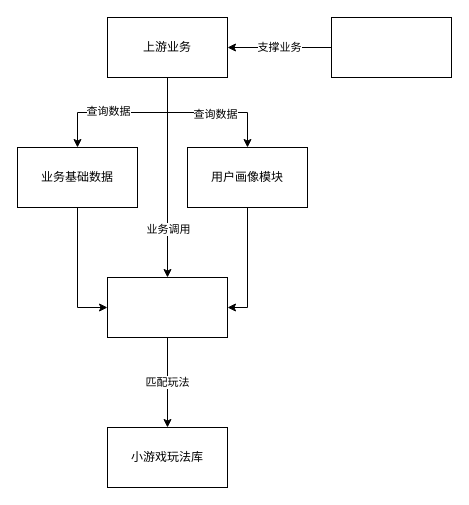
The diagram is 469 pixels wide and 505 high, and some of its shapes have lost their labels. The centre of each missing label's shape, as x and y in pixels:
小游戏营销工具: the point at 391,47
规则引擎: the point at 167,307
